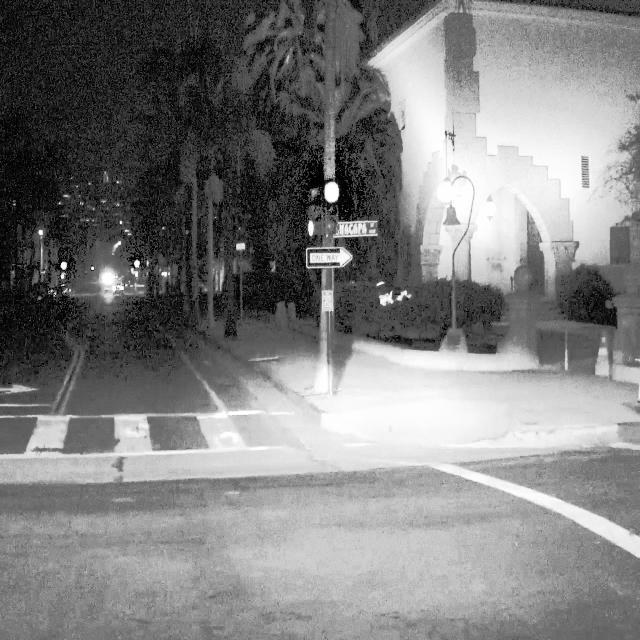Light: (303, 208, 324, 246), (324, 182, 339, 202)
Sign: (306, 247, 354, 268), (333, 222, 378, 238), (321, 290, 333, 311)
